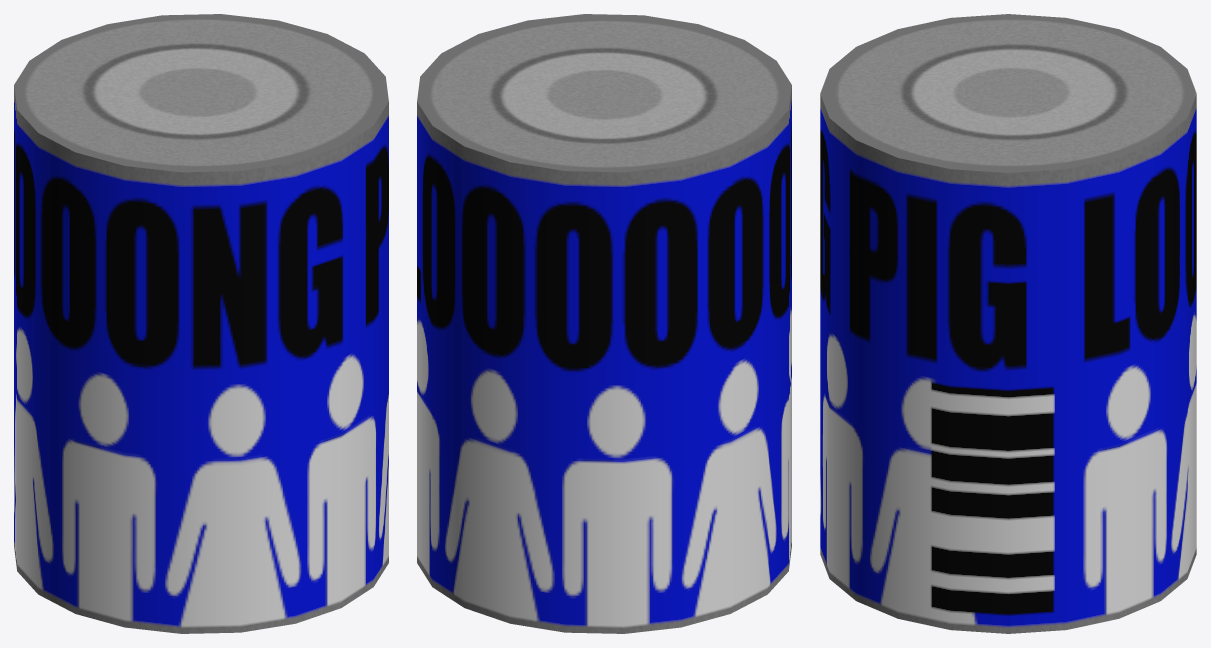
Rendered from Tin_Can_HumanFood.fbx.
3 views of the same model, side by side, from view 1: azimuth 30°, elevation 25°; view 2: azimuth 150°, elevation 25°; view 3: azimuth 270°, elevation 25° (orthographic).
Parts seen in each view (by area): view 1: pCylinder1; view 2: pCylinder1; view 3: pCylinder1.
Part boxes in pixels (x1,y1,x2,y2): pCylinder1: [14, 14, 388, 633]; pCylinder1: [417, 14, 791, 633]; pCylinder1: [820, 14, 1196, 633].
Bounding box in the file's own units: 20 × 27.02 × 20.
1 material, 1 textured.
